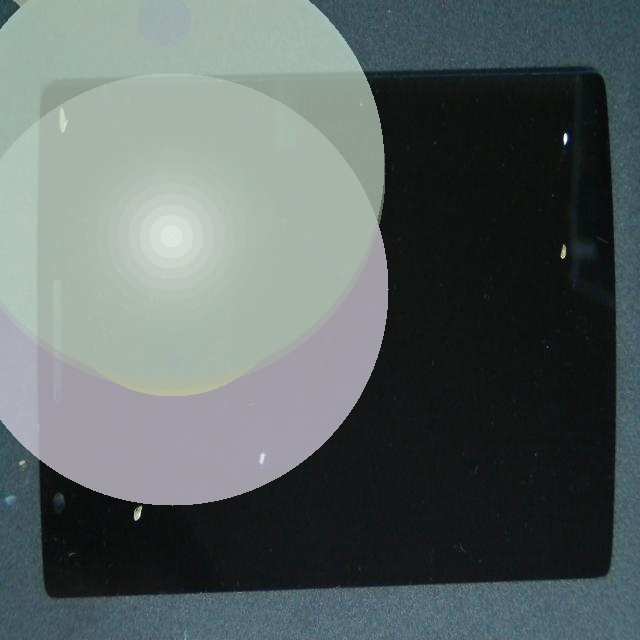stain: (151, 258, 412, 640), (296, 108, 640, 343), (84, 281, 223, 640), (281, 100, 640, 224), (53, 82, 116, 179)
